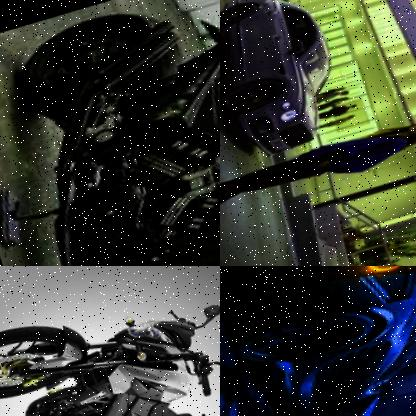bike: (0, 267, 220, 416), (0, 369, 220, 416)
car: (220, 266, 416, 416), (220, 0, 352, 157)
